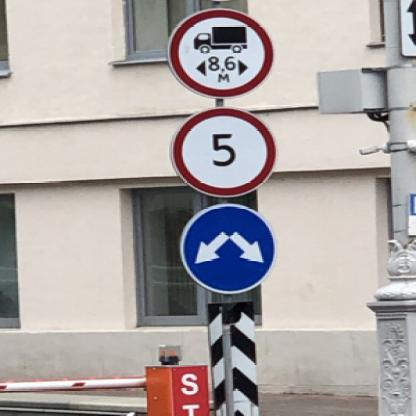speedlimit: (166, 106, 276, 197)
